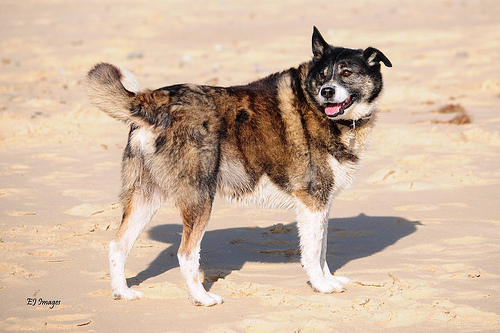dog: (79, 22, 398, 308)
